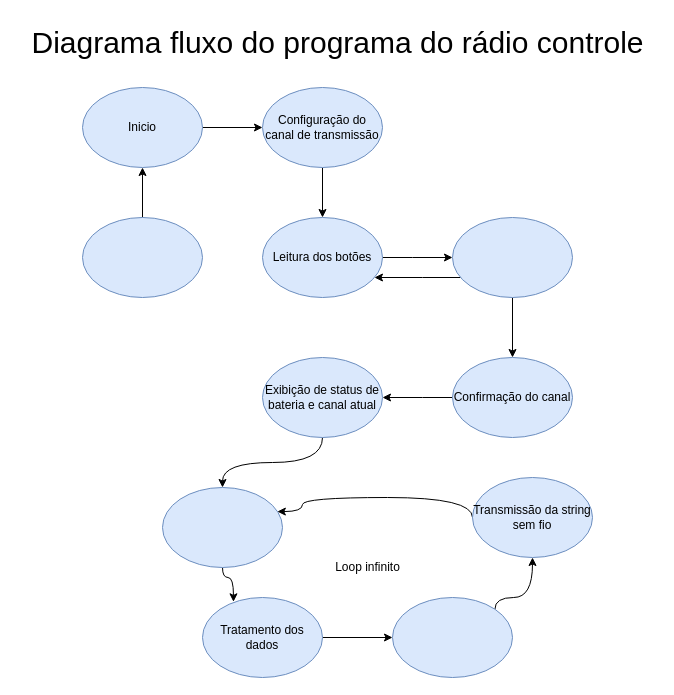
The diagram is 674 pixels wide and 695 high, and some of its shapes have lost their labels. Here are the shapes that lost their labels. From the top down, the box of each, then its label:
(82, 216, 202, 298): Reset
(452, 216, 572, 298): Exibição do canal atual
(162, 486, 282, 568): Leitura dos potenciômetros
(392, 596, 512, 678): Alocação dos valores em uma string
